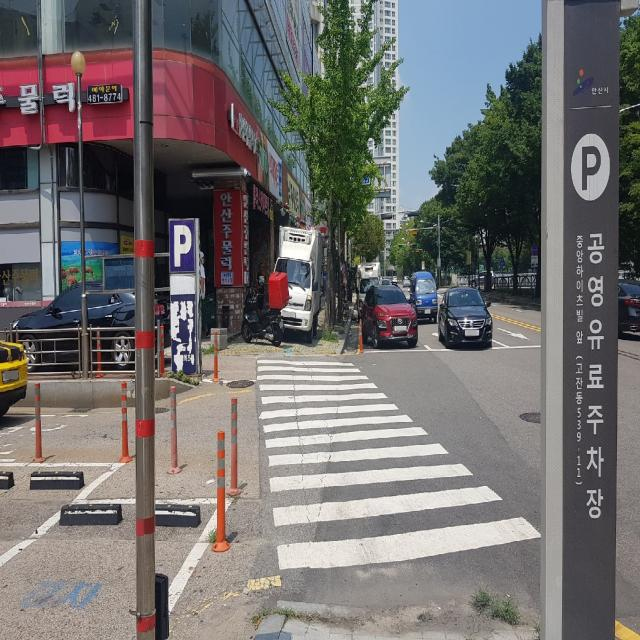횡단보도: (255, 354, 543, 576)
